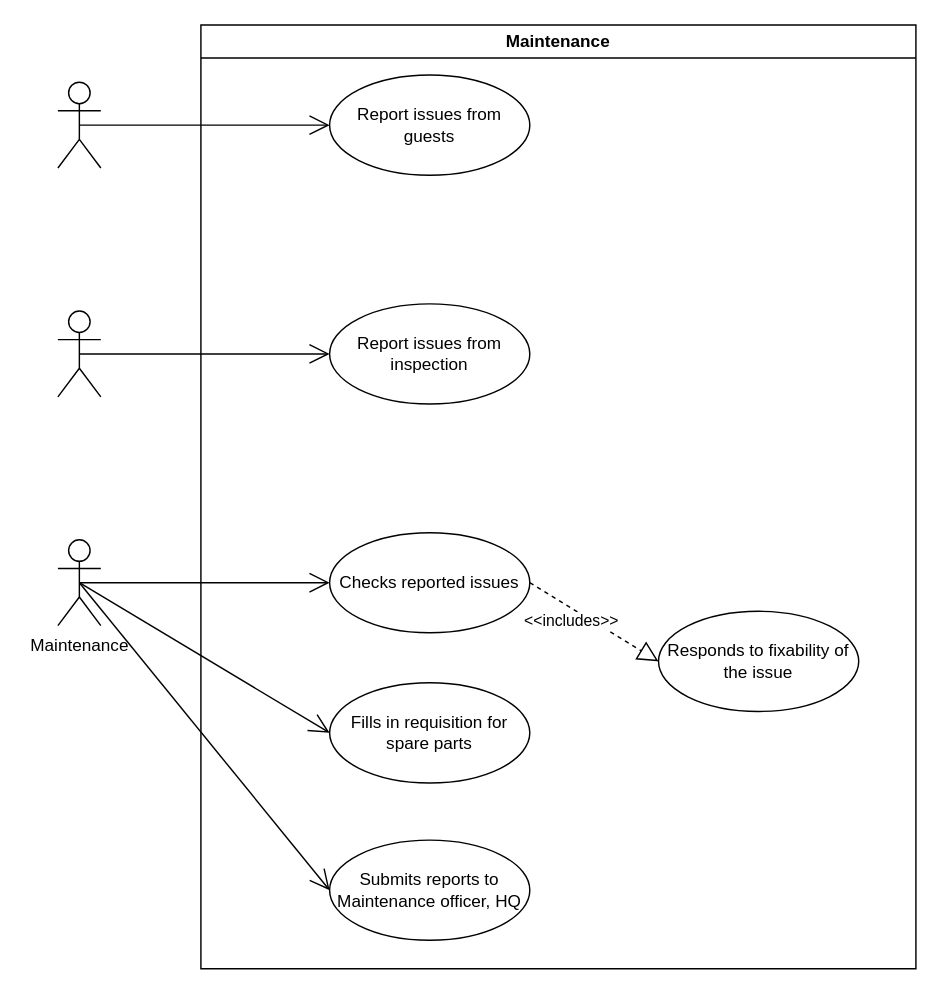
Some shapes in this 941 by 994 pixel diagram are drawn without their labels. The shapes that lost their labels are listed below. From the top down, each one's box as (x1, y1, x2, y2) in pixels, then its label:
(56, 81, 101, 168): Front office
(56, 310, 101, 397): Housekeeping
